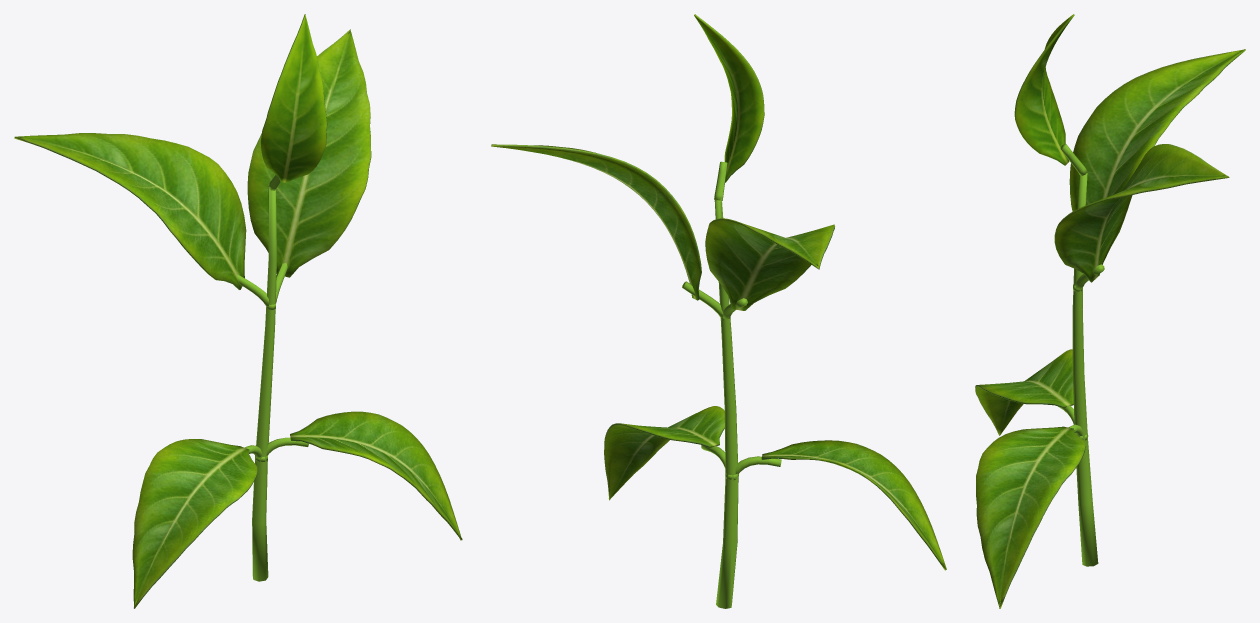
The model's file is NP_WaterSpinach_Young.fbx.
3 renders of one model, left to right at view 1: azimuth 30°, elevation 25°; view 2: azimuth 150°, elevation 25°; view 3: azimuth 270°, elevation 25°, orthographic. The views are drawn at different scales.
Parts seen in each view (by area): view 1: NP_WaterSpinach_Young; view 2: NP_WaterSpinach_Young; view 3: NP_WaterSpinach_Young.
Boxes of the visible parts, left/top/right/bottom form: NP_WaterSpinach_Young: left=14, top=14, right=462, bottom=608; NP_WaterSpinach_Young: left=491, top=14, right=946, bottom=608; NP_WaterSpinach_Young: left=975, top=14, right=1245, bottom=608.
Size of the model in its own units: 35.23 by 57.28 by 24.72.
